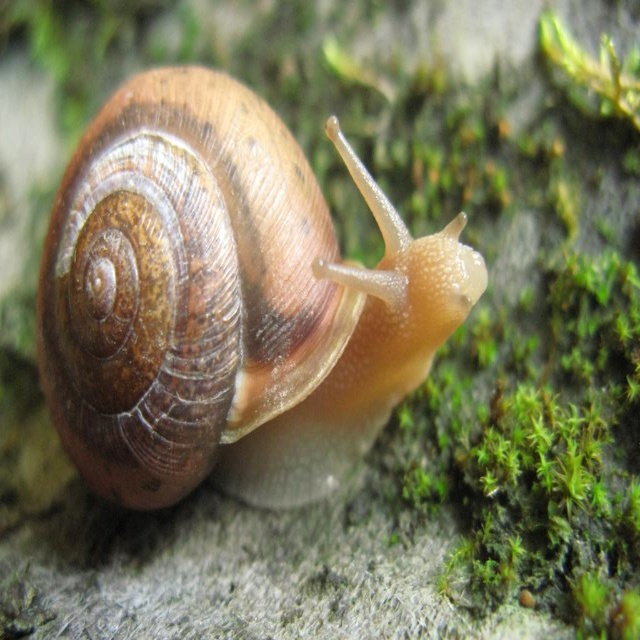Snail: (35, 64, 488, 513)
